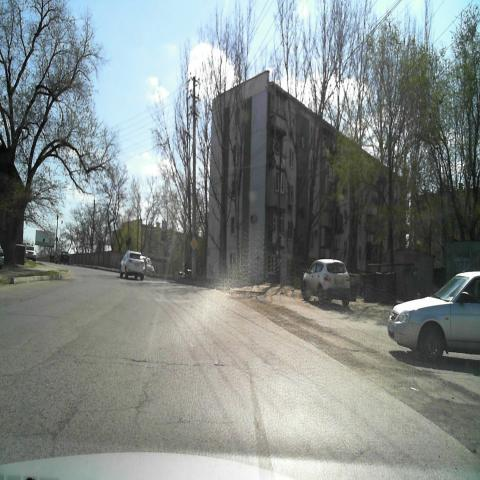2_1: (190, 237, 198, 251)
